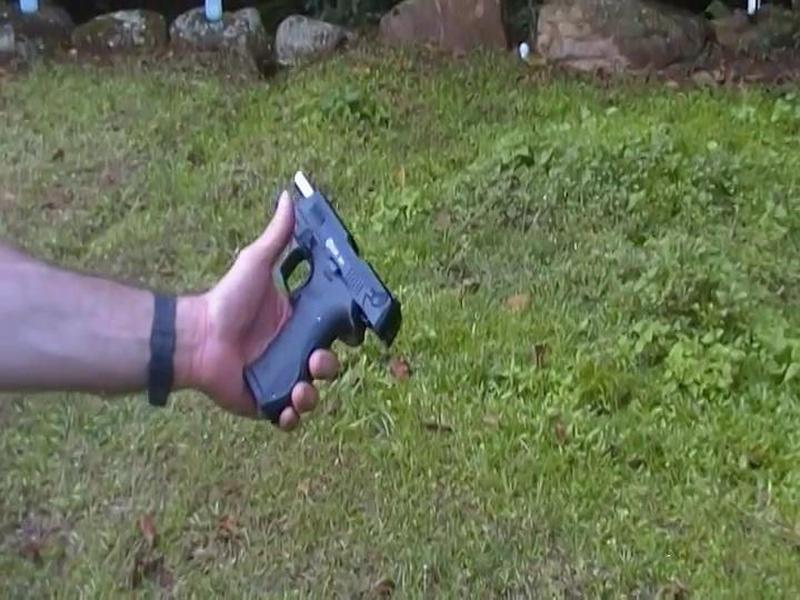Pistola: (235, 165, 411, 417)
